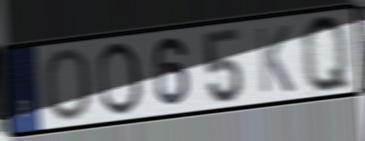5: (200, 25, 245, 106)
6: (151, 35, 192, 110)
K: (253, 23, 296, 96)
O: (42, 46, 94, 123), (95, 39, 145, 119)
Q: (298, 11, 356, 96)
